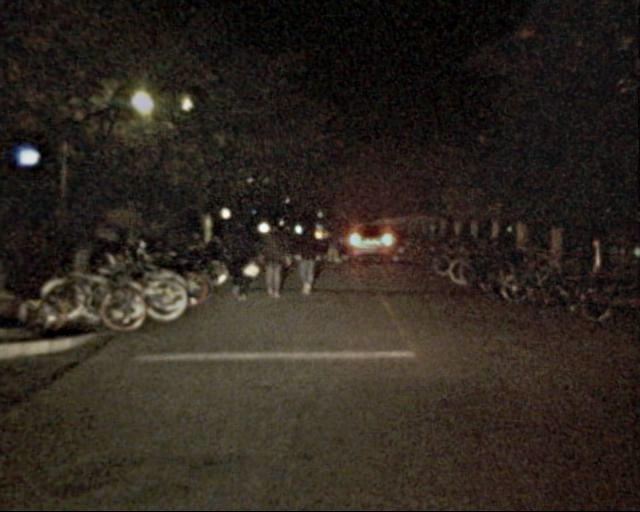person: (287, 219, 321, 301), (225, 215, 256, 304), (259, 221, 287, 302), (324, 220, 345, 271)
